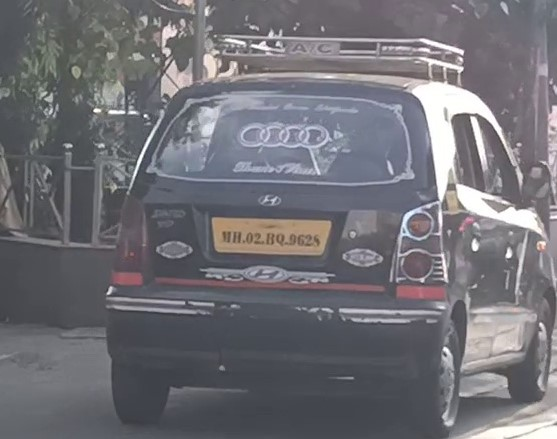MH02BQ9628: (210, 216, 332, 255)
